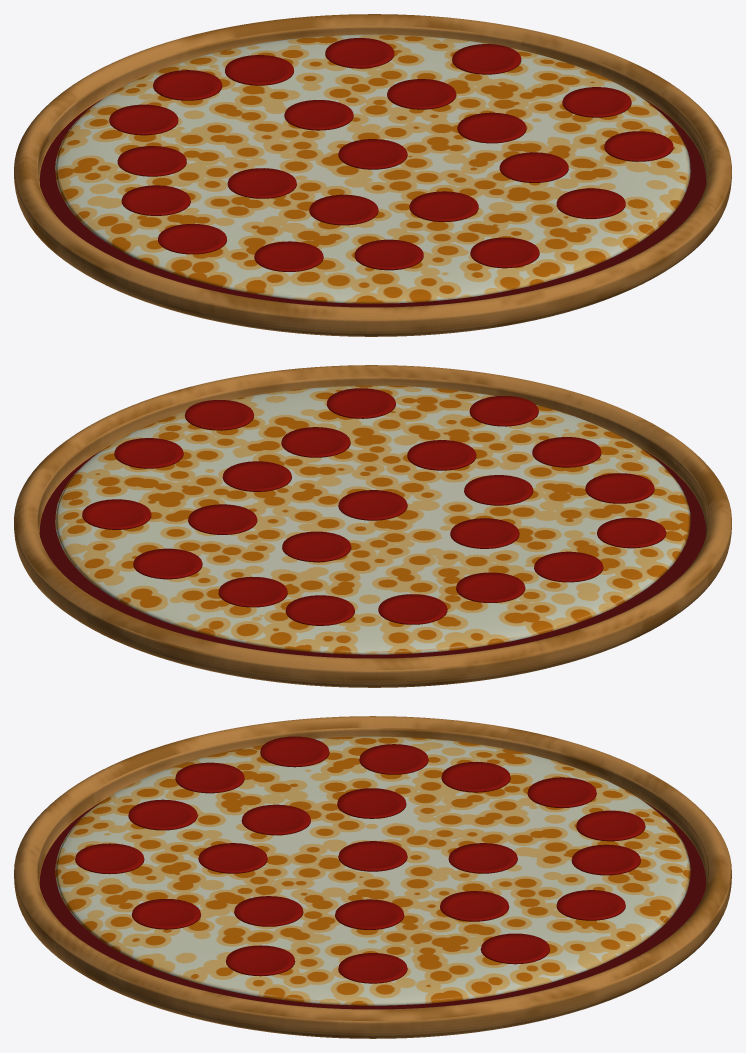
Rendered from pizza3.glb.
3 renders of one model, top to bottom at view 1: azimuth 30°, elevation 25°; view 2: azimuth 150°, elevation 25°; view 3: azimuth 270°, elevation 25°, orthographic.
Visible parts, largest first — view 1: Circle.001, Cylinder, Circle, Circle.006, Circle.003, Circle.011, Circle.014, Circle.016, Circle.012, Circle.022, Circle.008, Circle.010 (+13 smaller); view 2: Circle.001, Cylinder, Circle, Circle.020, Circle.003, Circle.010, Circle.016, Circle.004, Circle.008, Circle.013, Circle.012, Circle.005 (+13 smaller); view 3: Circle.001, Cylinder, Circle, Circle.006, Circle.014, Circle.016, Circle.021, Circle.004, Circle.011, Circle.012, Circle.005, Circle.019 (+13 smaller).
Part boxes in pixels (box(x1,y1,x2,y2)): Circle.001: box(55, 34, 690, 303); Cylinder: box(14, 14, 731, 336); Circle: box(39, 99, 706, 307); Circle.006: box(354, 239, 423, 270); Circle.003: box(227, 168, 296, 198); Circle.011: box(387, 79, 456, 109); Circle.014: box(470, 237, 539, 268); Circle.016: box(309, 194, 378, 225); Circle.012: box(153, 70, 222, 100); Circle.022: box(109, 104, 178, 135); Circle.008: box(452, 44, 521, 74); Circle.010: box(325, 38, 394, 68); Circle.001: box(55, 385, 690, 654); Cylinder: box(14, 365, 731, 687); Circle: box(39, 450, 706, 658); Circle.020: box(534, 551, 603, 582); Circle.003: box(450, 518, 519, 548); Circle.010: box(133, 548, 202, 579); Circle.016: box(464, 475, 533, 505); Circle.004: box(597, 517, 666, 548); Circle.008: box(82, 499, 151, 529); Circle.013: box(326, 388, 395, 418); Circle.012: box(285, 595, 354, 625); Circle.005: box(218, 576, 287, 607); Circle.001: box(55, 736, 690, 1005); Cylinder: box(14, 716, 731, 1038); Circle: box(39, 801, 706, 1009); Circle.006: box(128, 799, 197, 830); Circle.014: box(75, 843, 144, 874); Circle.016: box(241, 804, 310, 835); Circle.021: box(441, 762, 510, 792); Circle.004: box(260, 736, 329, 767); Circle.011: box(440, 891, 509, 921); Circle.012: box(576, 810, 645, 841); Circle.005: box(571, 844, 640, 875); Circle.019: box(175, 762, 244, 793).
Bounding box in the file's own units: 0.4194 × 0.0246 × 0.4194.
4 materials, 4 textured.
